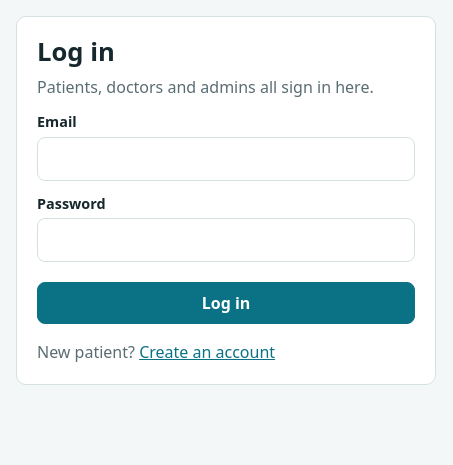
Test case: Login › shows why a login failed and lets the user try again
Type "asha@example.com" into the field labelled "Email". click: x=226, y=159
box: [37,137,415,181]
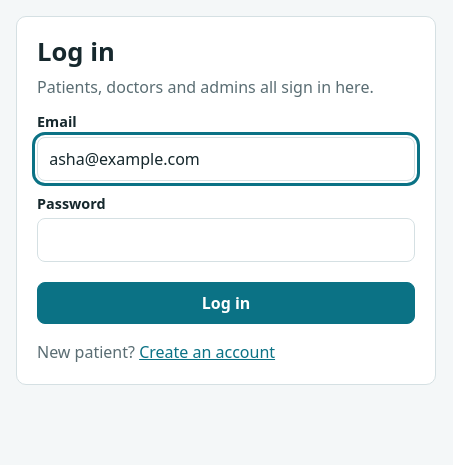
Type "a-password" into the password field labelled "Password". click: x=226, y=240
box: [37,218,415,262]
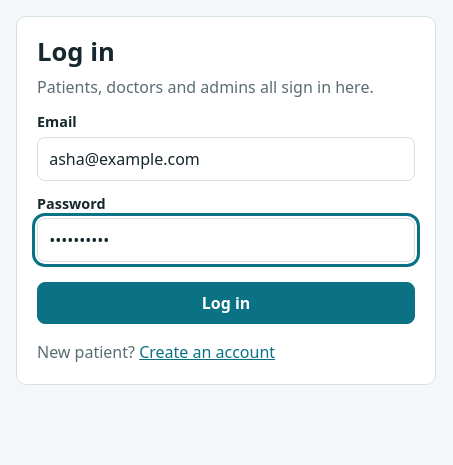
Click the button "Log in". click: x=226, y=303
box: [37,282,415,324]
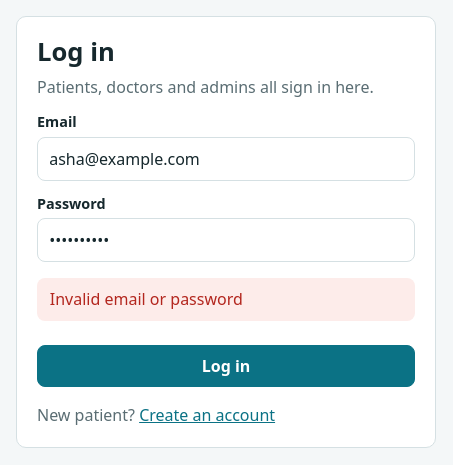
Expected: the button "Log in" is enabled, [37,345,415,387]
Result: the message reads "Invalid email or password" at [50,288,243,310]
